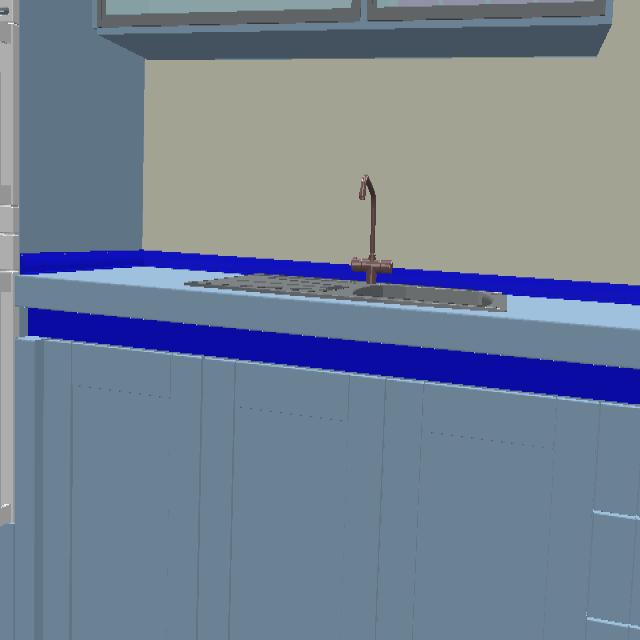countertop: (15, 267, 640, 405)
sink: (184, 273, 508, 312)
